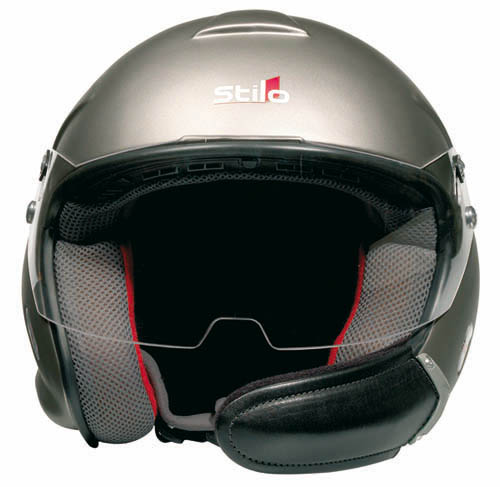helmet: (43, 24, 478, 441)
